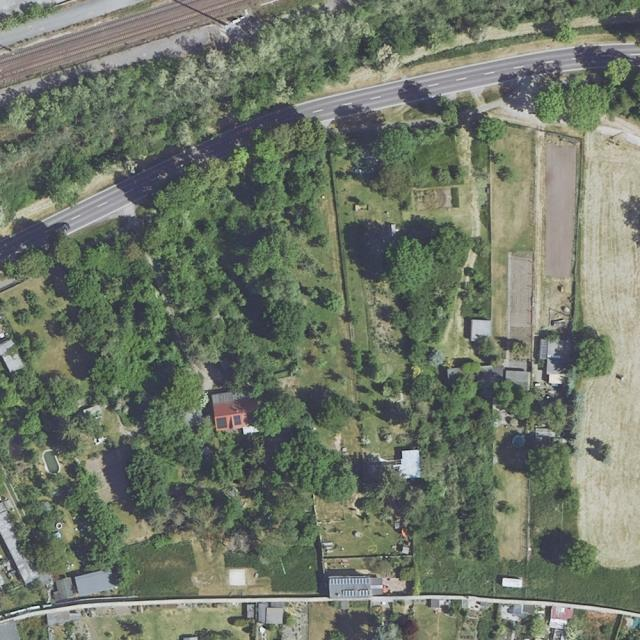PV: (329, 577, 370, 585), (216, 417, 227, 429), (343, 590, 357, 598), (233, 415, 242, 425), (359, 590, 370, 597)
